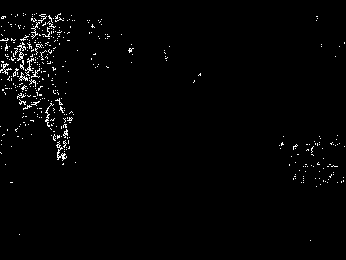person: (46, 98, 73, 168)
